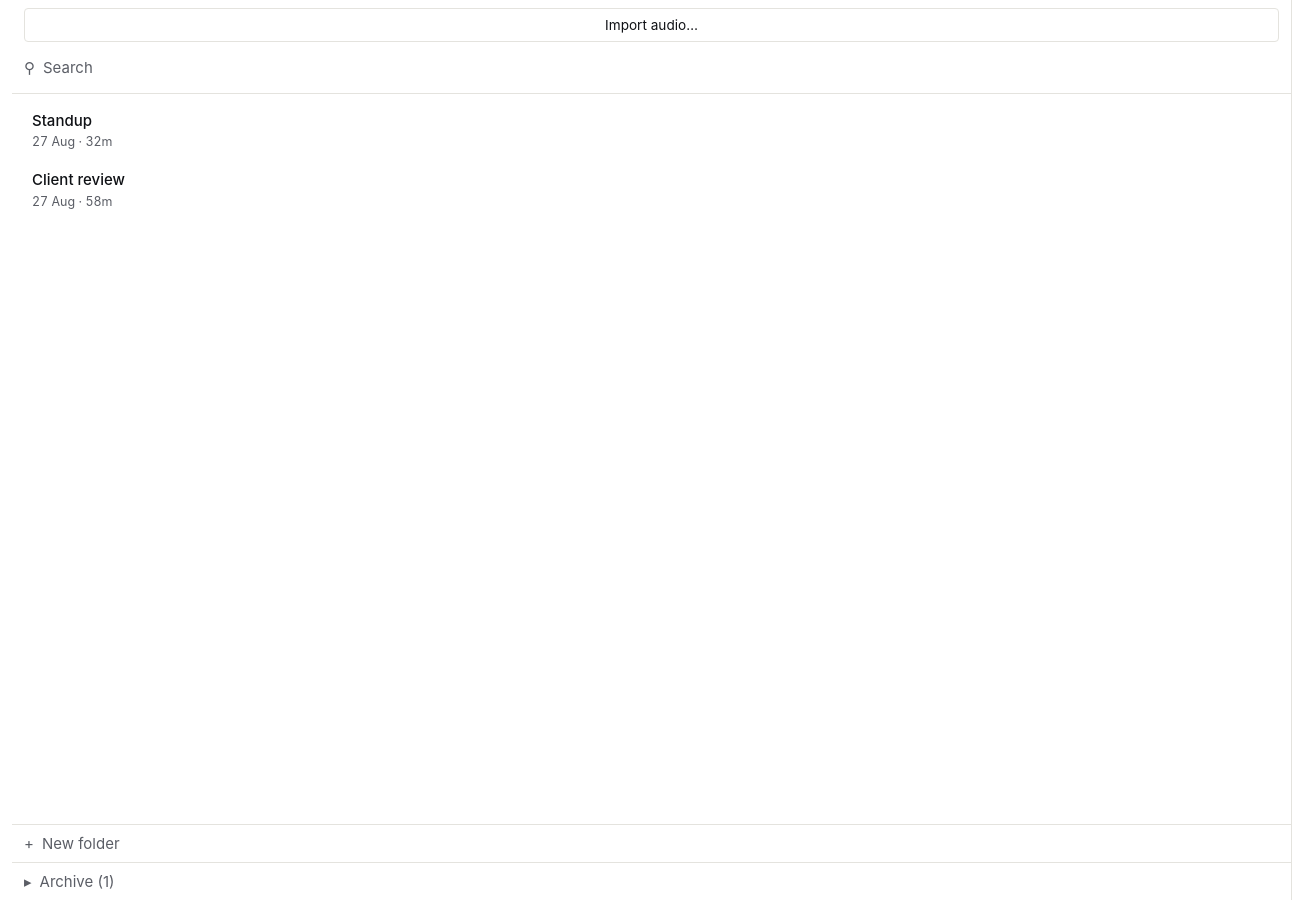
Test: MeetingSidebarComponent › reveals the archived listbox when the disclosure toggle is clicked
The width and height of the screenshot is (1304, 900).
Click the button with class "archive-toggle": (77, 882) [12,863,1291,899]
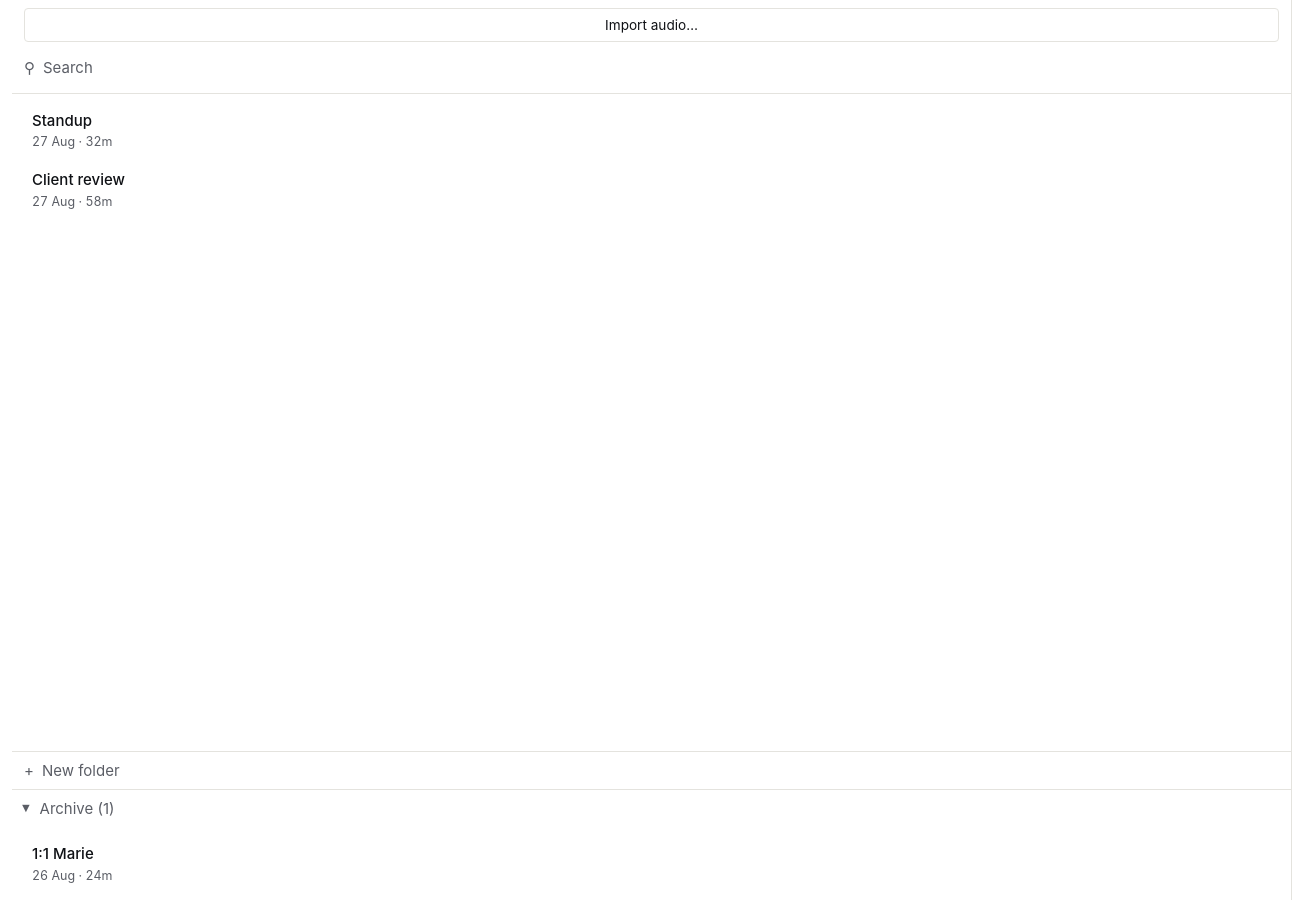
Check: the list with id "archived-meetings" is shown, box [32,844,112,882]
Check: the button with class "archive-toggle" is expanded, box [12,790,1291,827]
